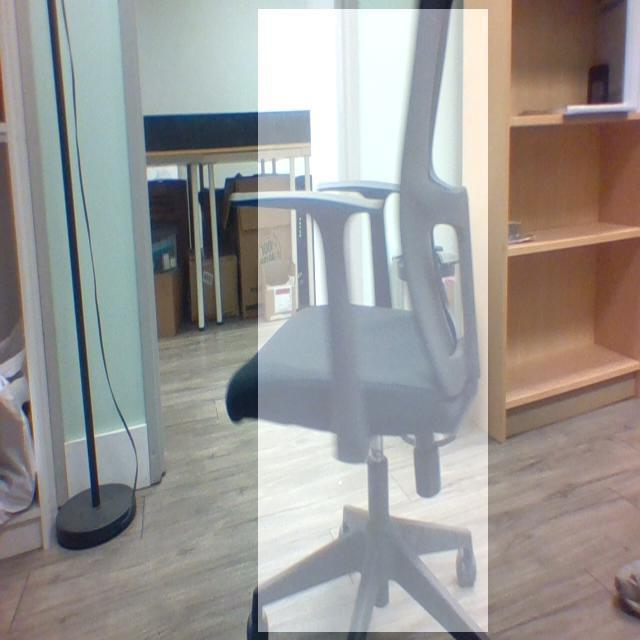chair: (258, 9, 490, 633)
